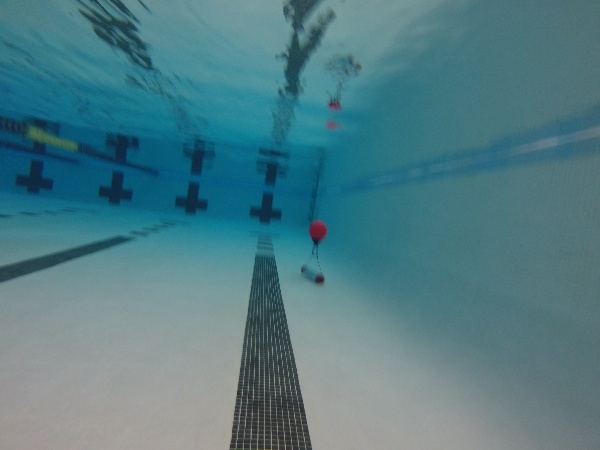buoy_red: (306, 218, 328, 247)
